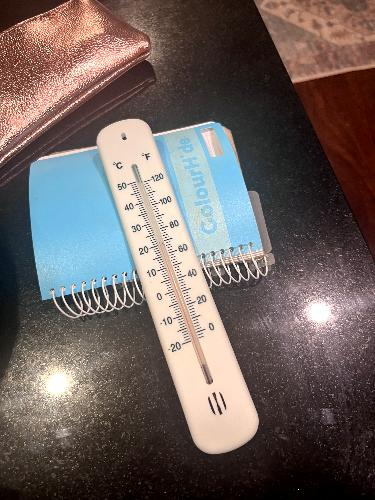thermo: (81, 114, 266, 457)
